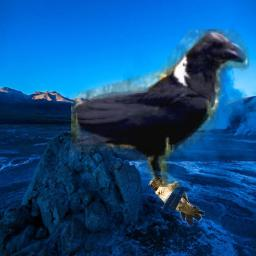Crow: (71, 29, 249, 187)
Swallow: (148, 176, 205, 226)
